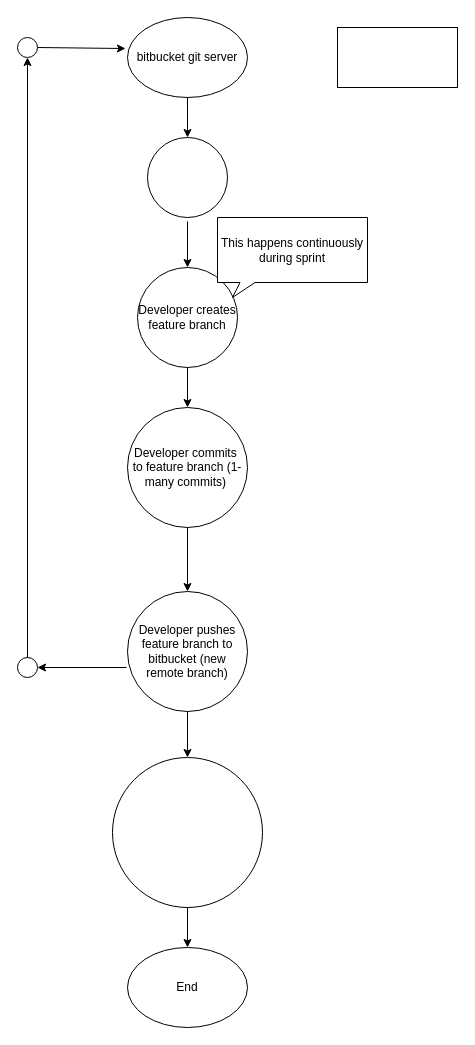
Some shapes in this 475 by 1045 pixel diagram are drawn without their labels. The centre of each missing label's shape, as x and y in pixels:
Developer clones repo: the point at 187,177
Developer updates Jira with remote branch info and assigns ticket to QA: the point at 187,832
Developer workflow: the point at 397,57
